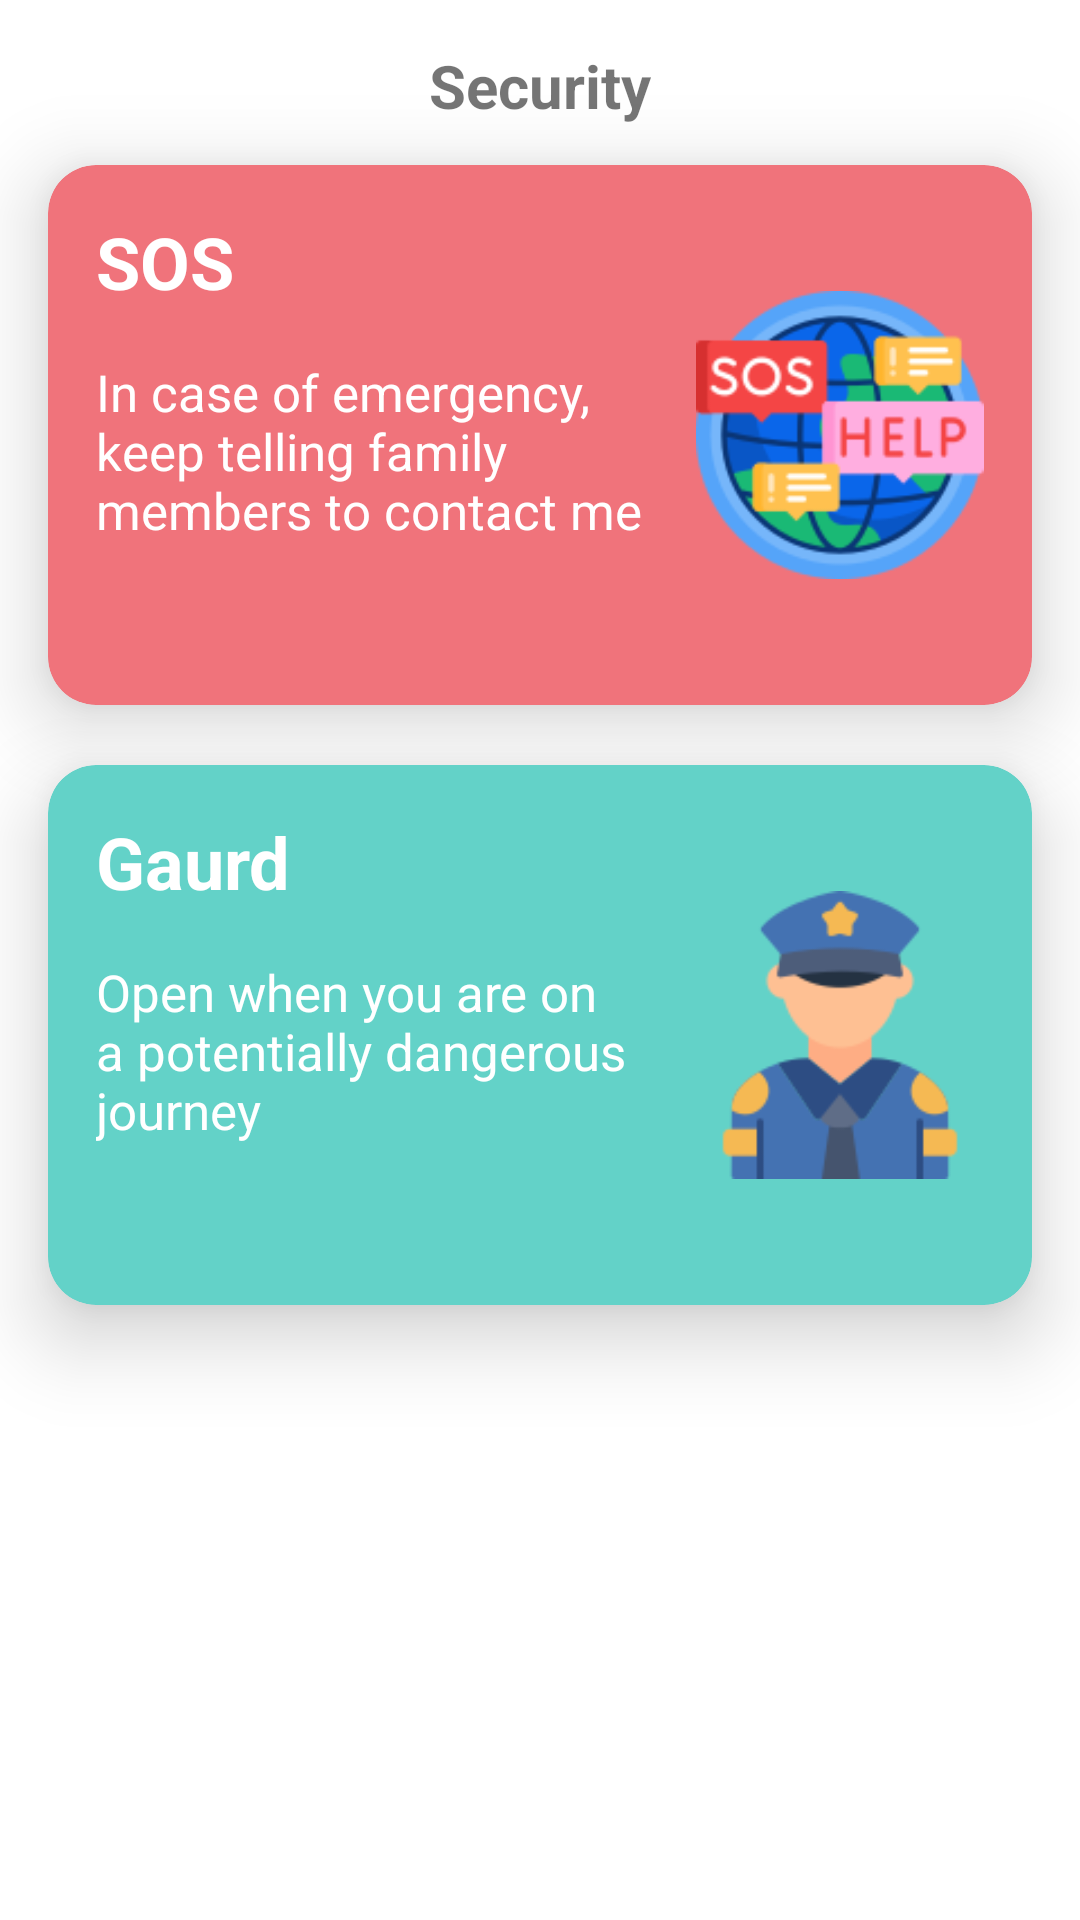

Locate icon controls on the screen. Image size 1080*1920, boxes as bbox=[x1, y1, x2, y2].
global: bbox=[696, 291, 984, 579]
policeman: bbox=[722, 891, 958, 1179]
